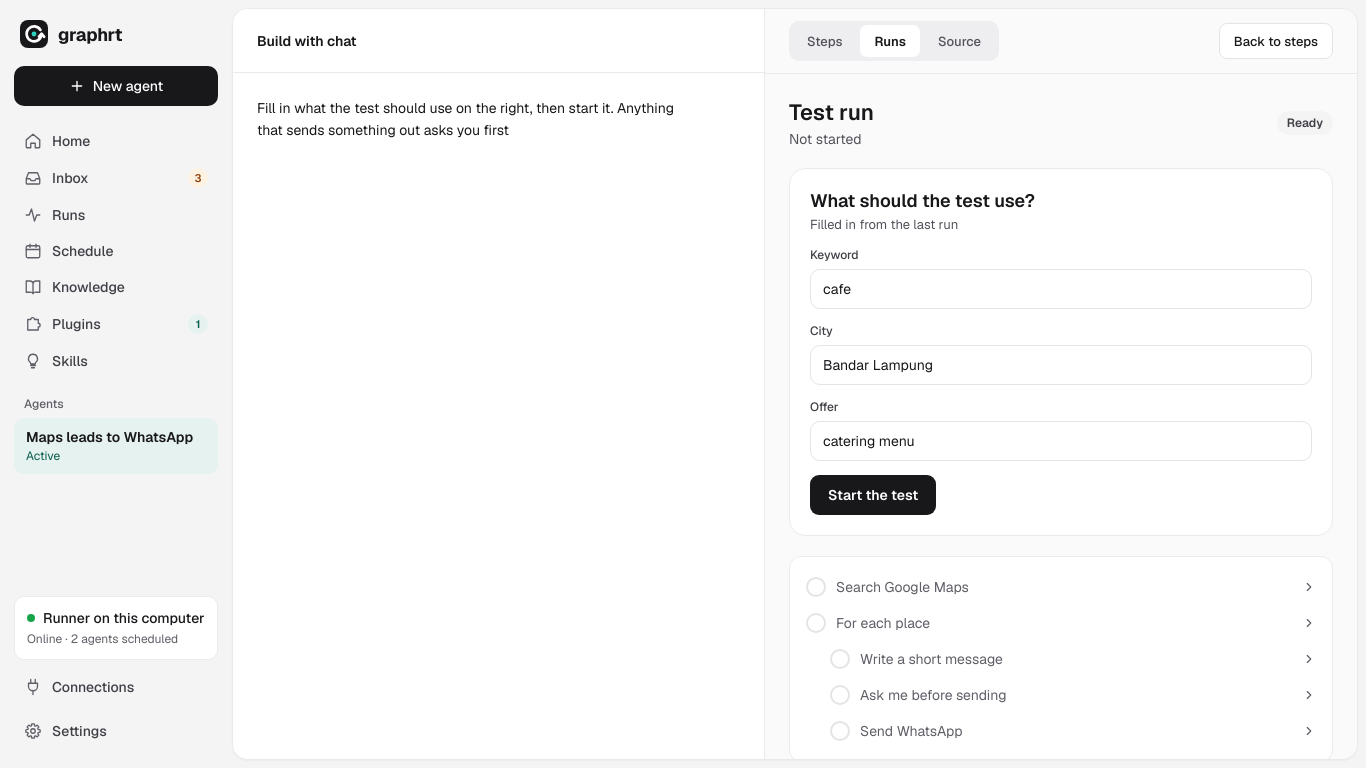
Test case: TestRunPage › shows a form from the flow inputs, prefilled from the last run, before starting
This screenshot has width=1366, height=768.
Expected: the text "Filled in from the last run" is shown, top-left (810, 216), bottom-right (958, 233)
Expected: the field labelled "Keyword" holds "cafe", top-left (810, 269), bottom-right (1312, 309)
Replace the text in the field labelled "City" with "[CITY]": (1061, 365) top-left (810, 345), bottom-right (1312, 385)
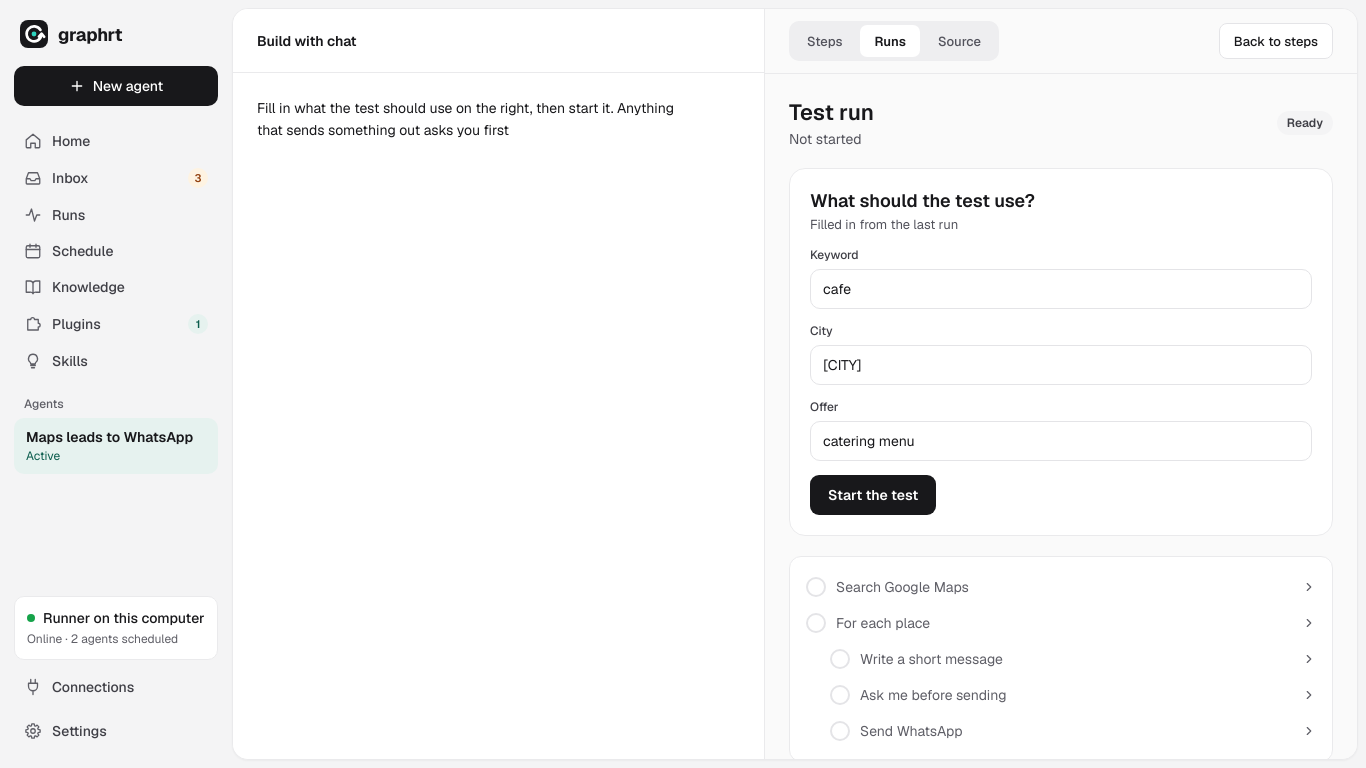
Click the button "Start the test": (873, 495) top-left (810, 475), bottom-right (936, 515)
Wait 16 ms
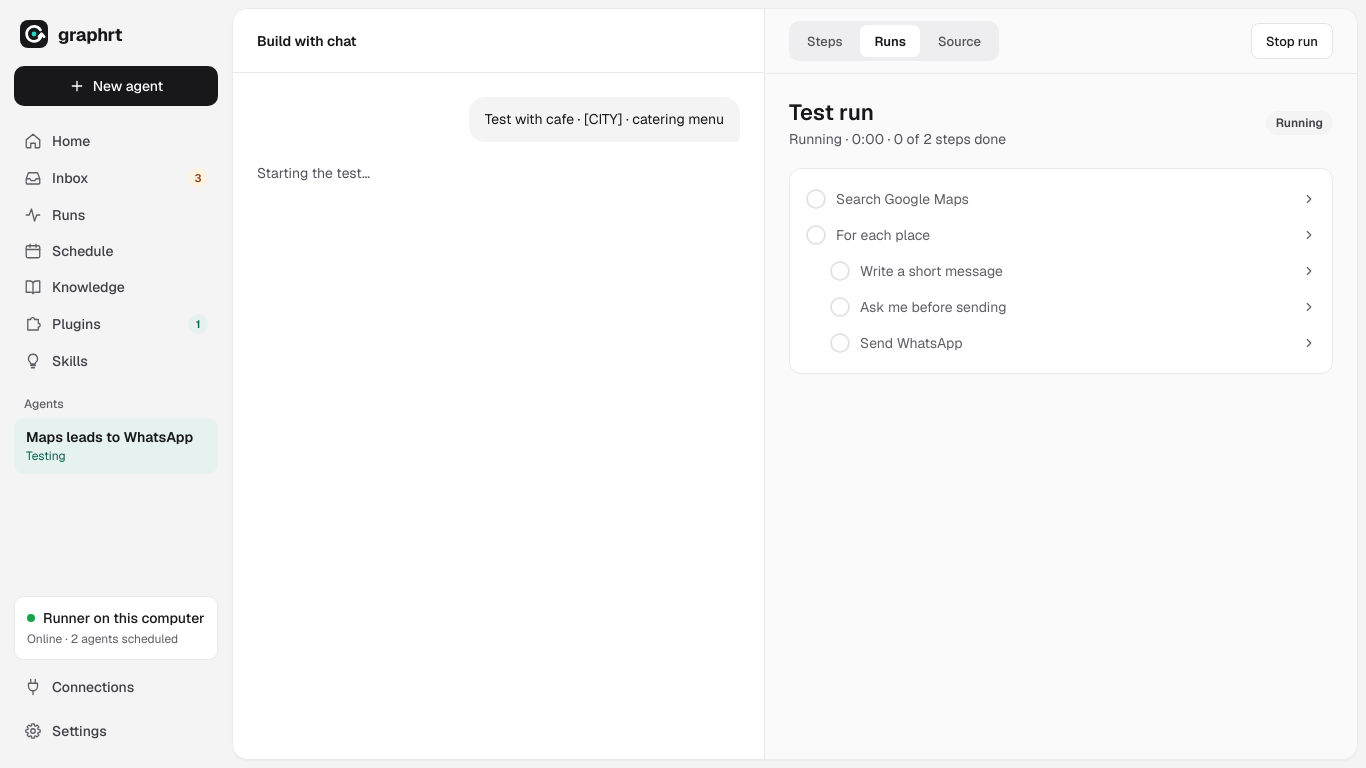
Result: the text "Test with cafe · [CITY] · catering menu" is shown at top-left (469, 97), bottom-right (740, 142)
